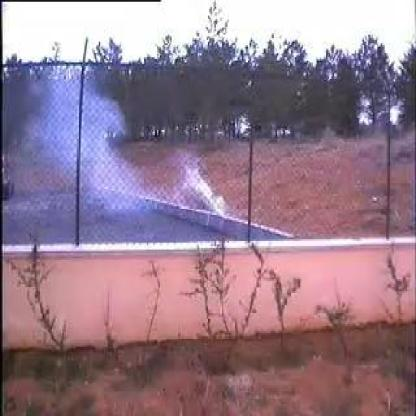-: (32, 70, 219, 218)
